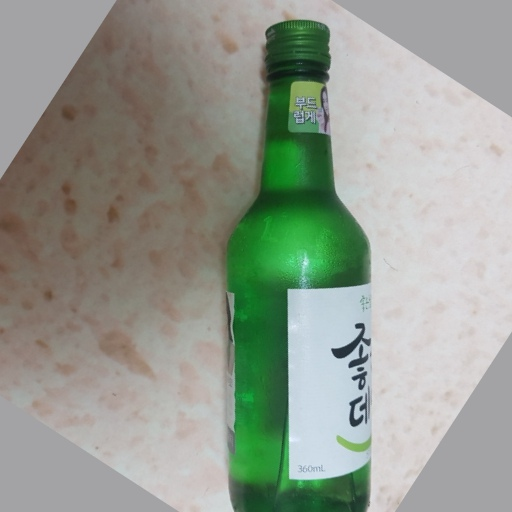Glass_0: (217, 19, 380, 512)
